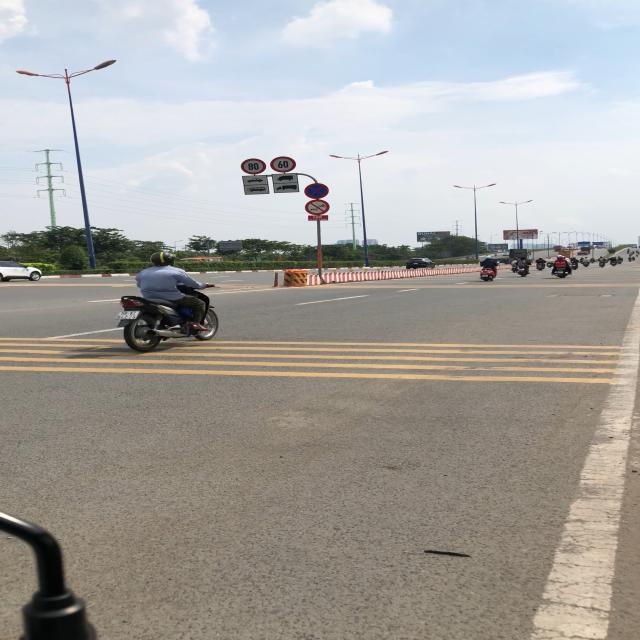Bien bao cam dung xe va do xe: (304, 181, 332, 200), (238, 157, 267, 175)
Bien bao toc do toi da cho phep: (268, 155, 298, 173)
